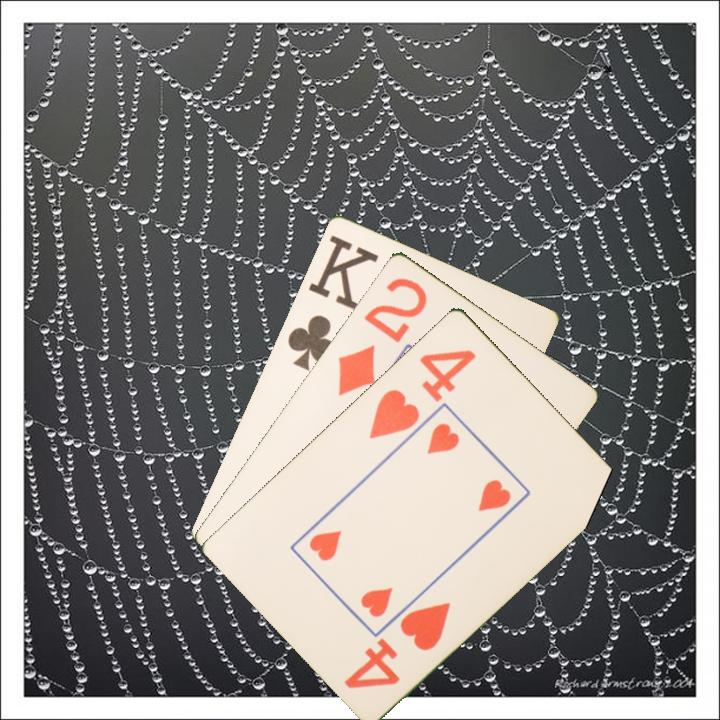2d: (334, 273, 431, 399)
4h: (365, 345, 479, 442), (340, 598, 454, 691)
Kc: (283, 231, 381, 374)
